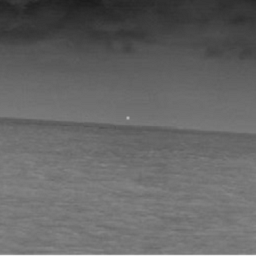Target: (124, 115, 131, 122)
